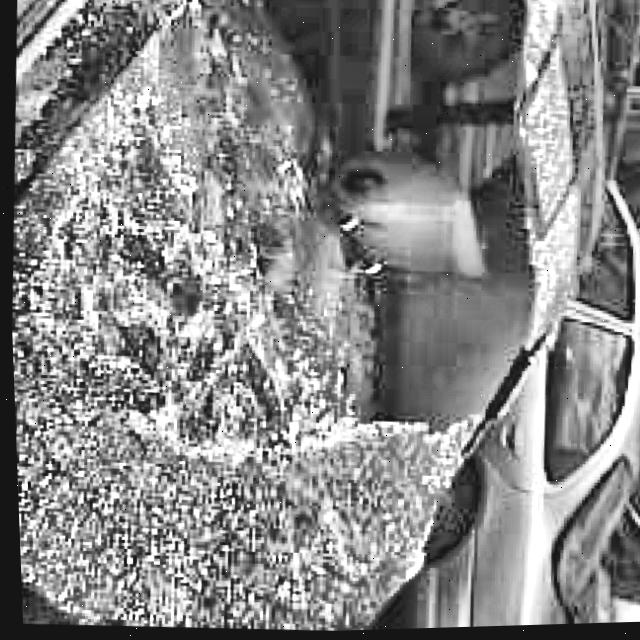glass_shatter: (131, 196, 381, 522), (184, 0, 561, 210), (374, 200, 580, 465)
